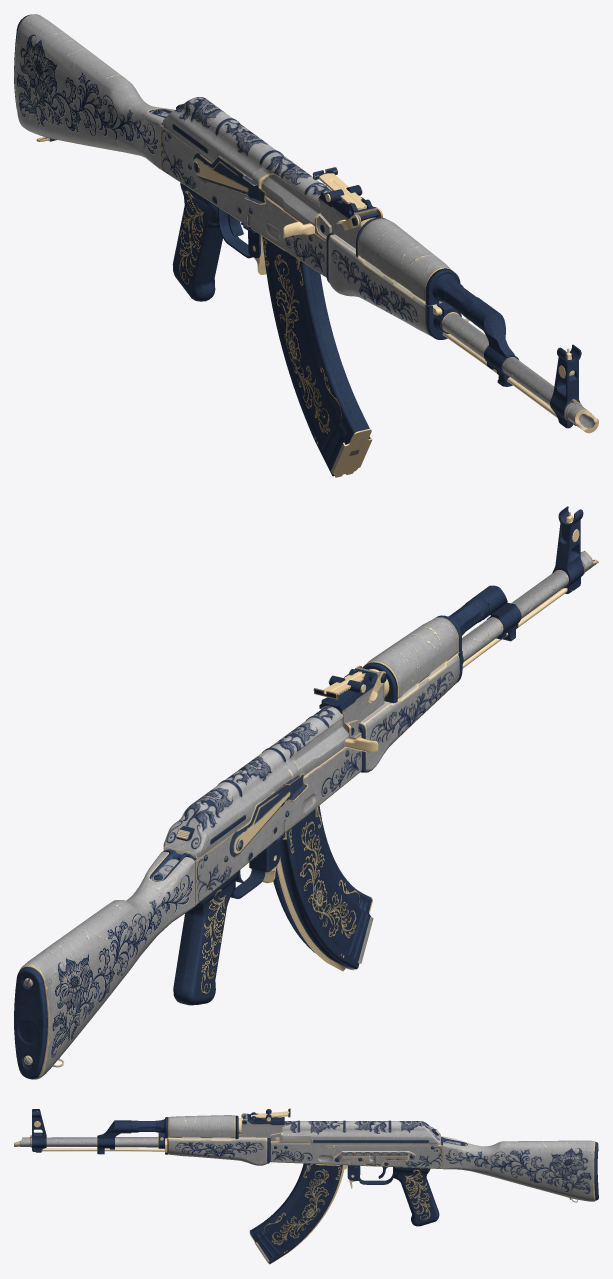
Rendered from ak_hands.glb.
3 views of the same model, one above another, from view 1: azimuth 30°, elevation 25°; view 2: azimuth 150°, elevation 25°; view 3: azimuth 270°, elevation 25° (orthographic). The views are drawn at different scales.
Visible parts, largest first — view 1: AKM, Magazine, Bolt, Safety; view 2: AKM, Magazine, Bolt, Safety; view 3: AKM, Magazine.
Boxes of the visible parts, x1,y1,x2,y2 form: AKM: [14, 14, 598, 433]; Magazine: [262, 236, 372, 477]; Bolt: [261, 174, 319, 238]; Safety: [193, 153, 265, 204]; AKM: [14, 506, 598, 1079]; Magazine: [261, 791, 373, 971]; Bolt: [275, 720, 378, 791]; Safety: [229, 773, 308, 856]; AKM: [14, 1108, 598, 1226]; Magazine: [249, 1163, 347, 1264].
Bounding box in the file's own units: 0.0536 × 0.204 × 0.7103.
1 material, 1 textured.
